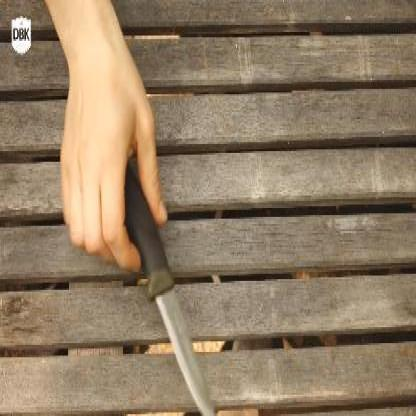knife: (95, 158, 221, 414)
